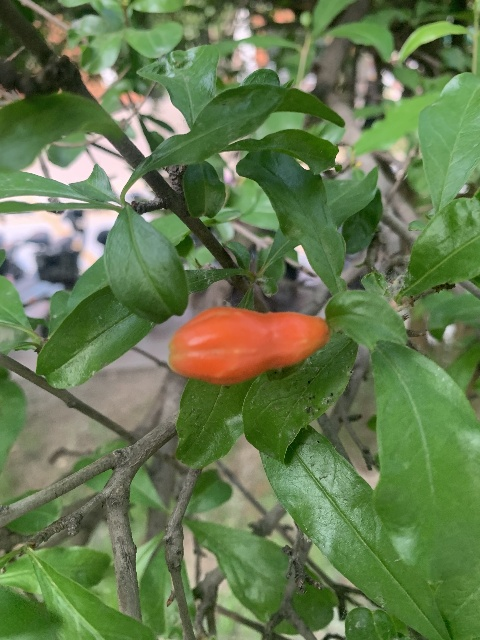bud: (167, 306, 330, 385)
